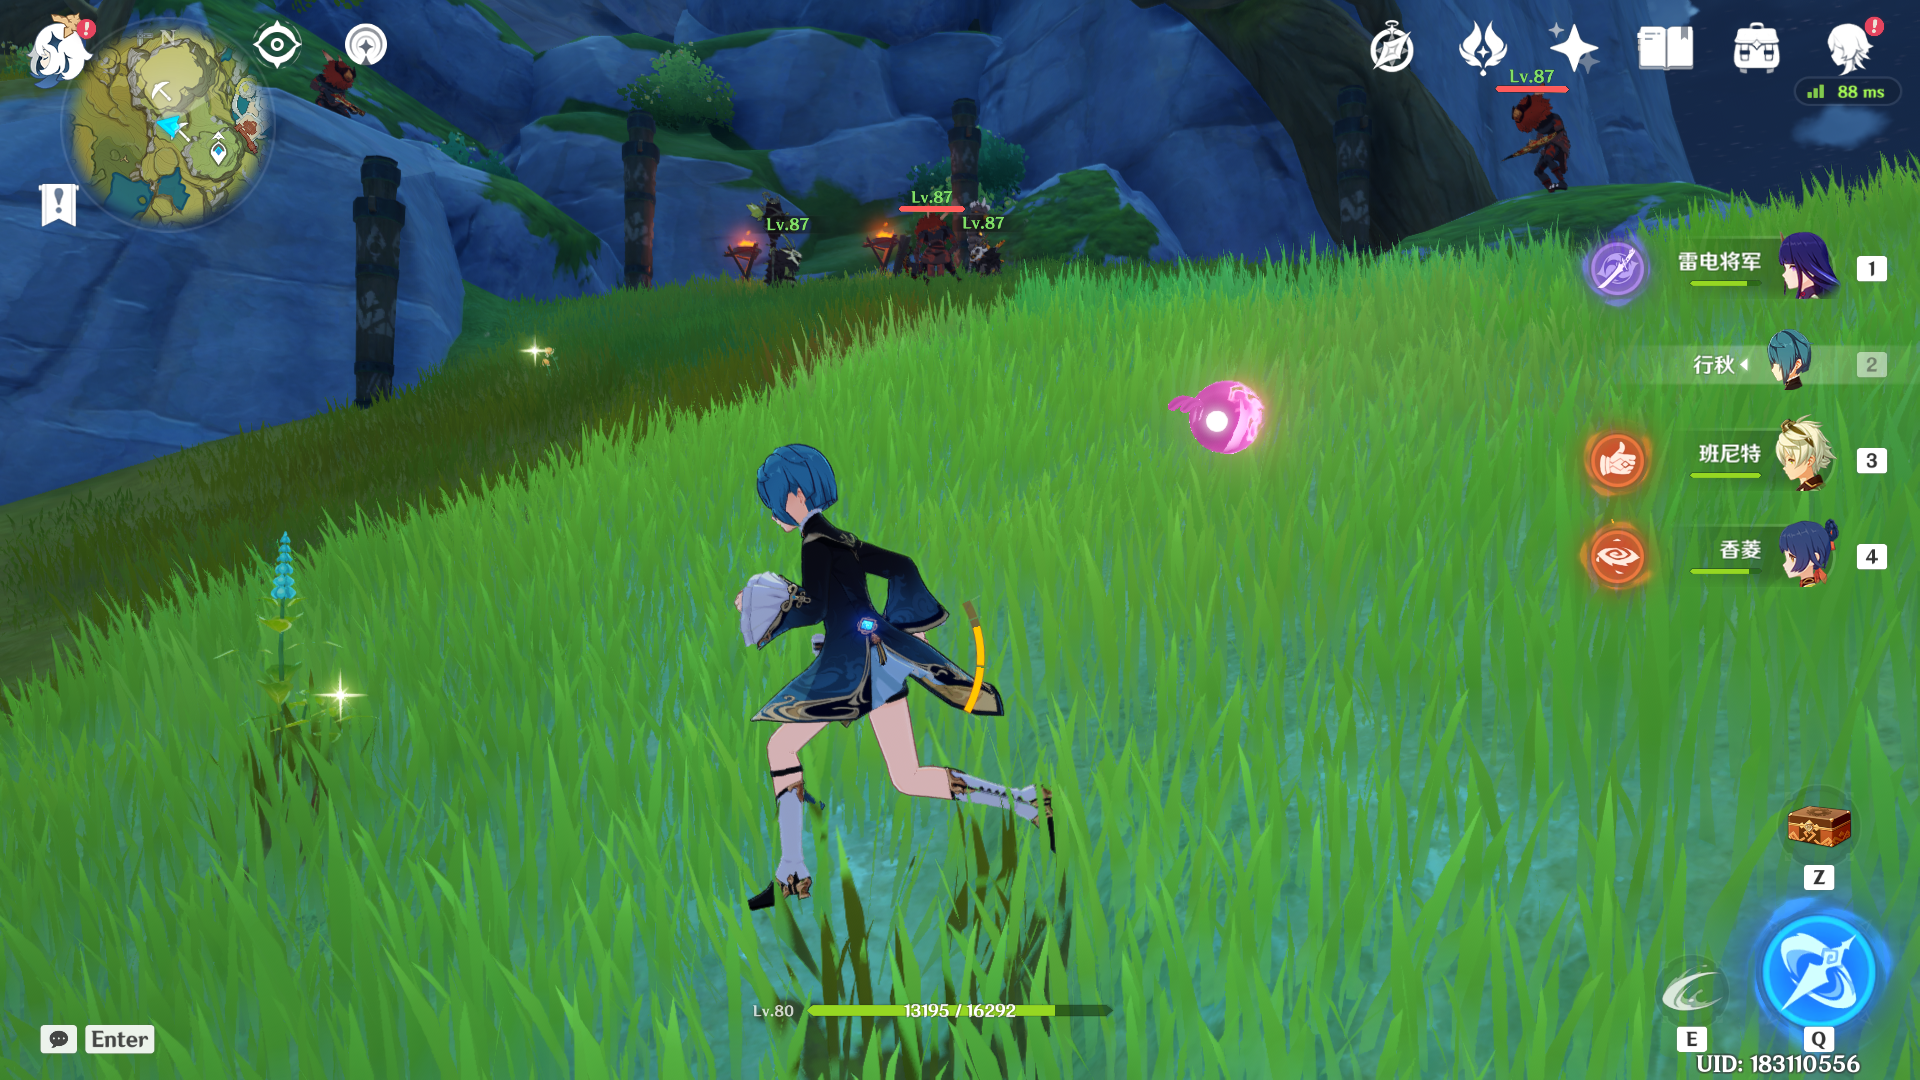character: (647, 414, 1100, 945)
hili: (1487, 65, 1598, 245), (731, 175, 832, 309), (302, 44, 386, 141), (901, 202, 963, 316), (969, 212, 1033, 323)
